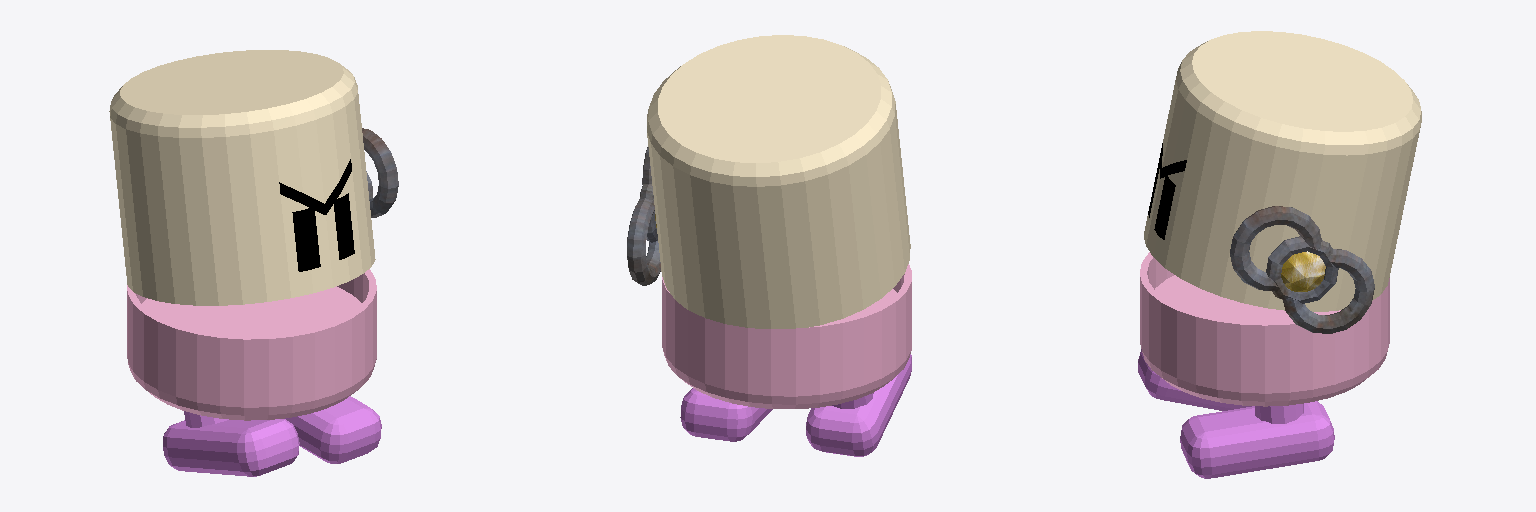
The picture shows the model from 3 angles: view 1: azimuth 30°, elevation 25°; view 2: azimuth 150°, elevation 25°; view 3: azimuth 270°, elevation 25°; orthographic projection.
Visible parts, largest first — view 1: Head, Jaw, RightLeg, LeftLeg, WindupKey; view 2: Head, Jaw, RightLeg, LeftLeg, WindupKey; view 3: Head, Jaw, WindupKey, LeftLeg, RightLeg.
Boxes of the visible parts, <box> form: Head: <box>109,50,375,305</box>; Jaw: <box>127,269,376,420</box>; RightLeg: <box>163,411,299,476</box>; LeftLeg: <box>285,396,381,463</box>; WindupKey: <box>362,128,398,217</box>; Head: <box>647,35,910,328</box>; Jaw: <box>662,264,911,408</box>; RightLeg: <box>806,354,911,456</box>; LeftLeg: <box>680,388,772,441</box>; WindupKey: <box>627,147,660,285</box>; Head: <box>1144,31,1421,311</box>; Jaw: <box>1140,252,1389,406</box>; WindupKey: <box>1230,206,1374,333</box>; LeftLeg: <box>1180,401,1334,478</box>; RightLeg: <box>1138,349,1251,410</box>.
Size of the model in its own units: 112 by 165 by 113.
6 materials, 2 textured.